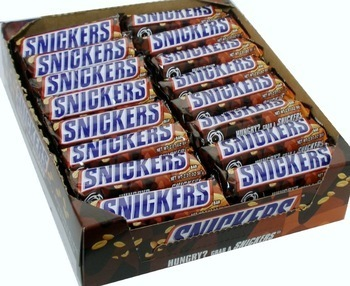snickers: (172, 197, 294, 239), (103, 180, 207, 218), (84, 149, 185, 188), (70, 122, 170, 161), (72, 122, 170, 161), (61, 102, 158, 140), (86, 149, 185, 186), (63, 102, 158, 140), (53, 78, 145, 116), (240, 146, 329, 185), (219, 117, 307, 155), (220, 117, 307, 155), (20, 19, 109, 56), (103, 187, 209, 218), (86, 153, 185, 186), (37, 38, 123, 75), (47, 57, 135, 93), (172, 213, 293, 239), (53, 83, 145, 116), (49, 57, 135, 92), (61, 111, 160, 140), (20, 25, 110, 56), (240, 154, 330, 185), (219, 124, 306, 155), (37, 38, 123, 69), (191, 72, 271, 105), (70, 137, 177, 161), (49, 62, 132, 92), (152, 16, 227, 48), (200, 97, 282, 125), (191, 77, 271, 105), (202, 97, 282, 125), (175, 55, 252, 84), (37, 45, 126, 69), (152, 22, 230, 48), (161, 38, 237, 62), (163, 38, 237, 62), (175, 62, 253, 84), (202, 107, 291, 125), (161, 42, 240, 62), (137, 4, 210, 22), (137, 7, 211, 22)
